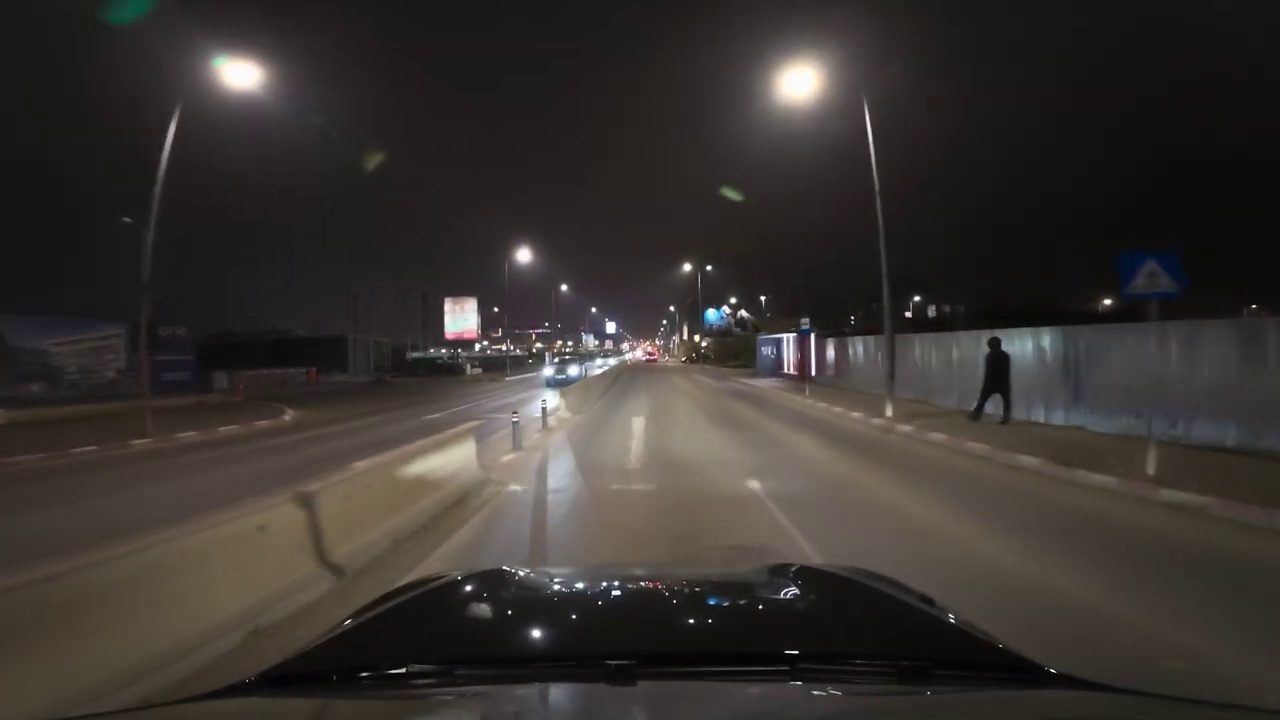acesa: (211, 54, 265, 96), (775, 62, 822, 104), (511, 242, 537, 268), (360, 148, 386, 174), (719, 182, 745, 205), (675, 259, 695, 280)
